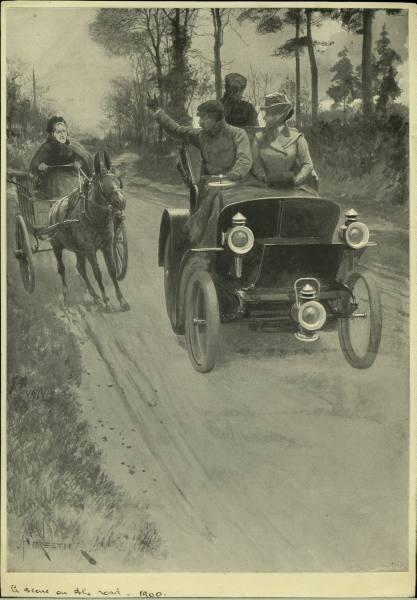car: (152, 142, 386, 374)
